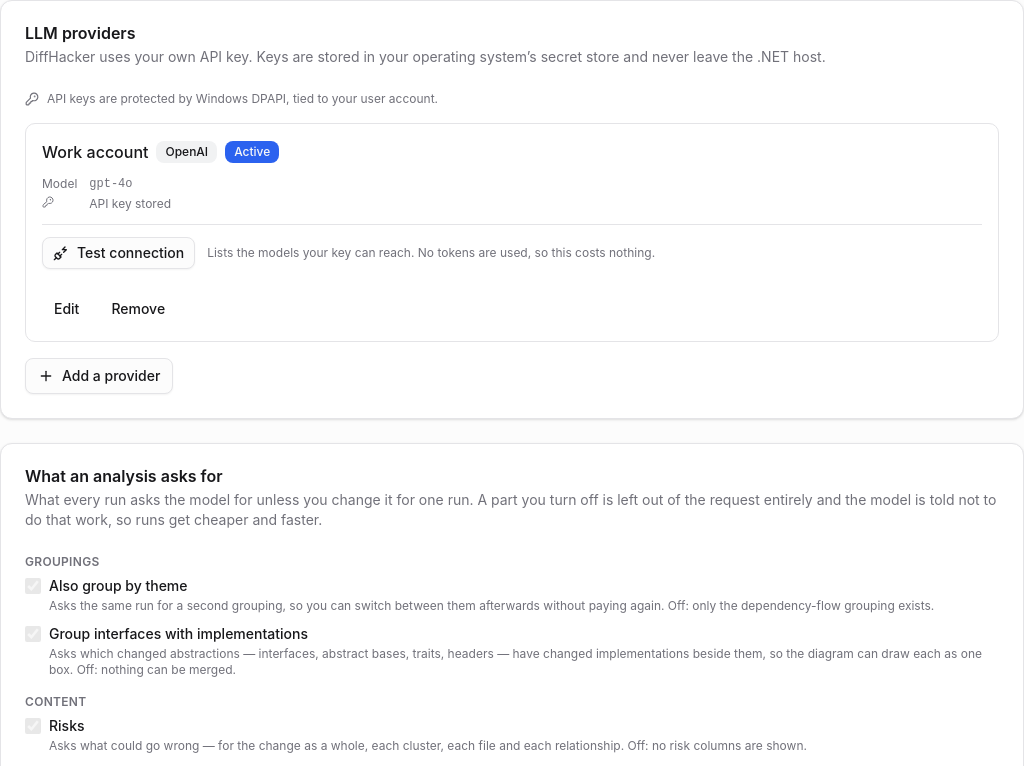
Scenario: SettingsScreen › shows a translated headline plus the provider's own wording on failure
Click the button "Test connection".
click(119, 253)  # box [42, 237, 195, 269]
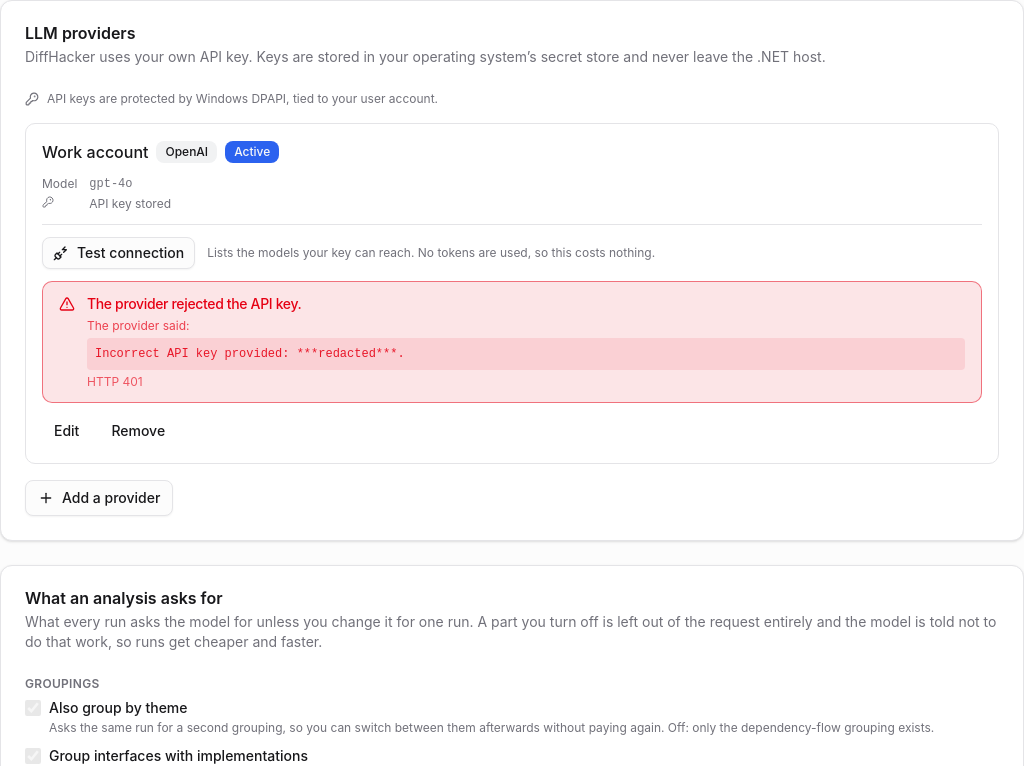
Expected: the text "The provider rejected the API key." is shown, [87, 295, 302, 312]
Expected: the text "Incorrect API key provided: ***redacted***." is shown, [87, 338, 965, 370]
Expected: the text "HTTP 401" is shown, [87, 374, 143, 390]
